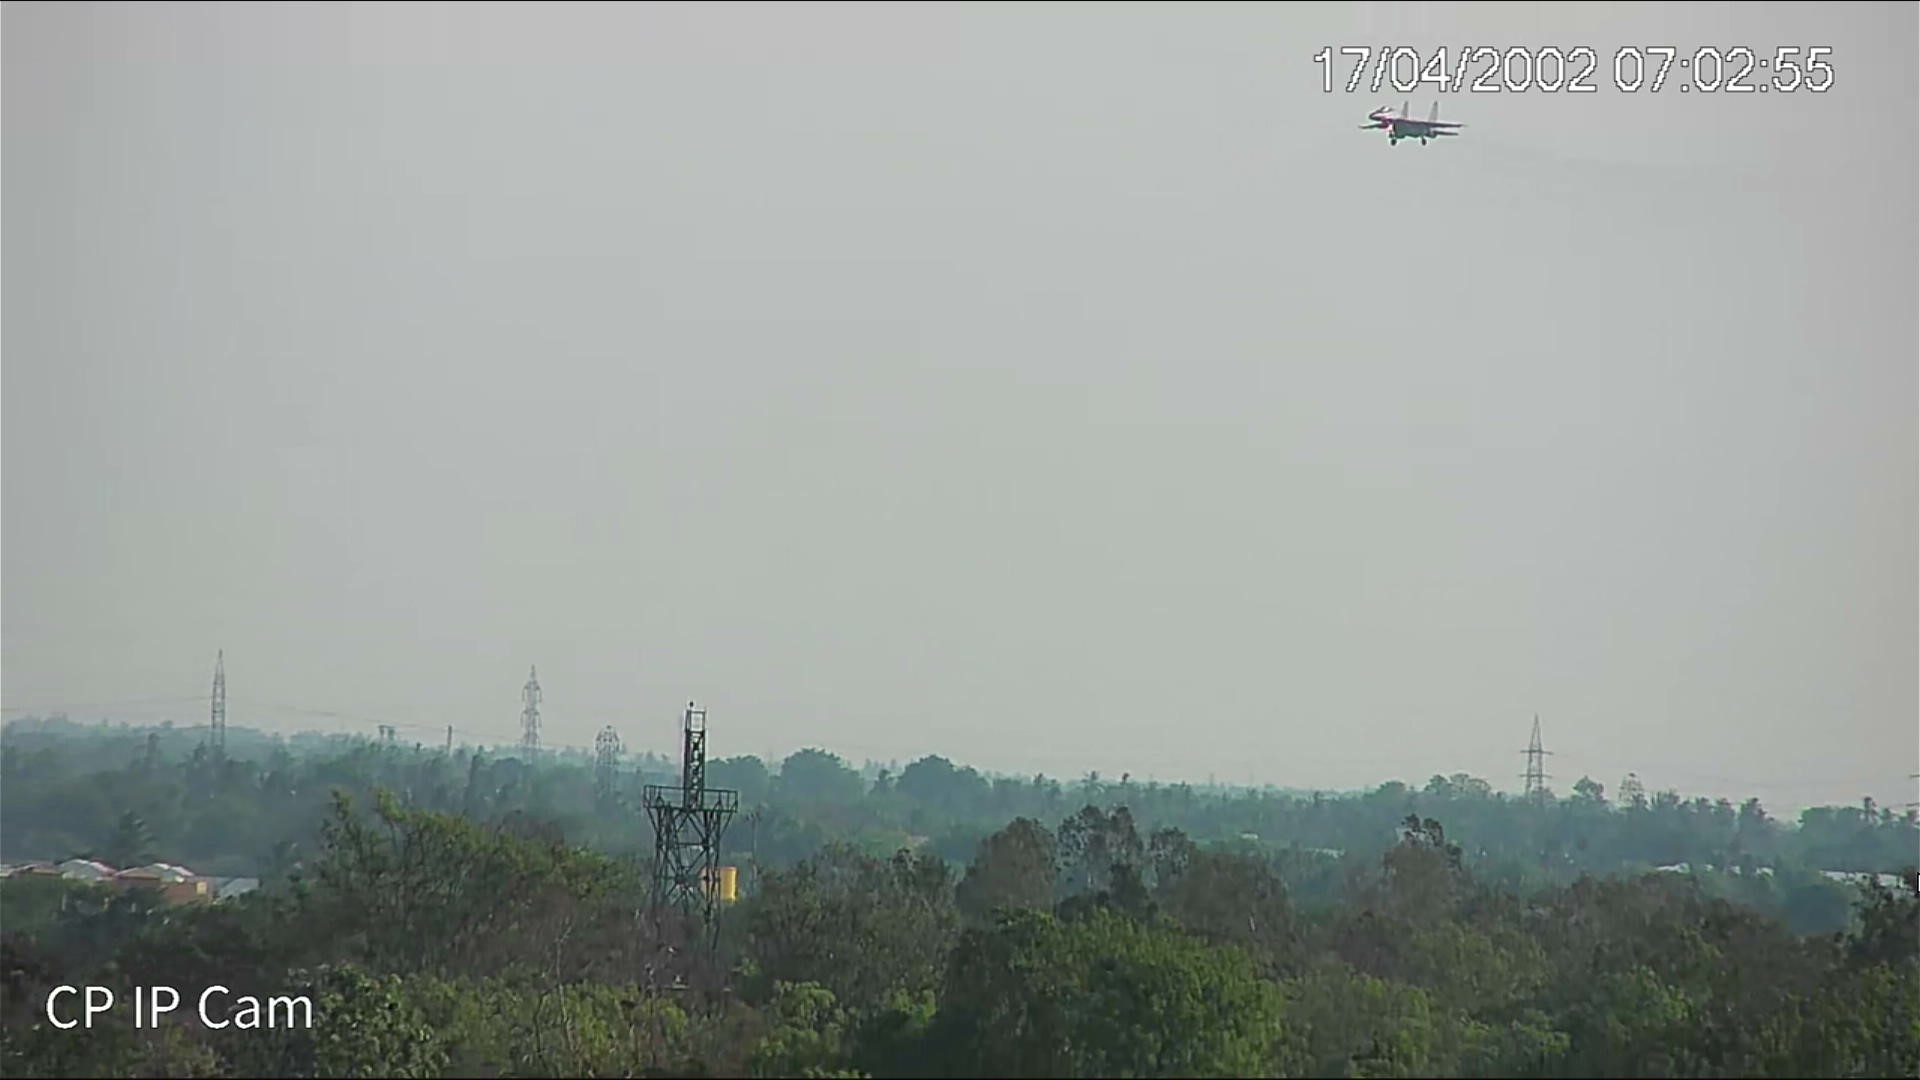SU_30: (1356, 100, 1466, 150)
